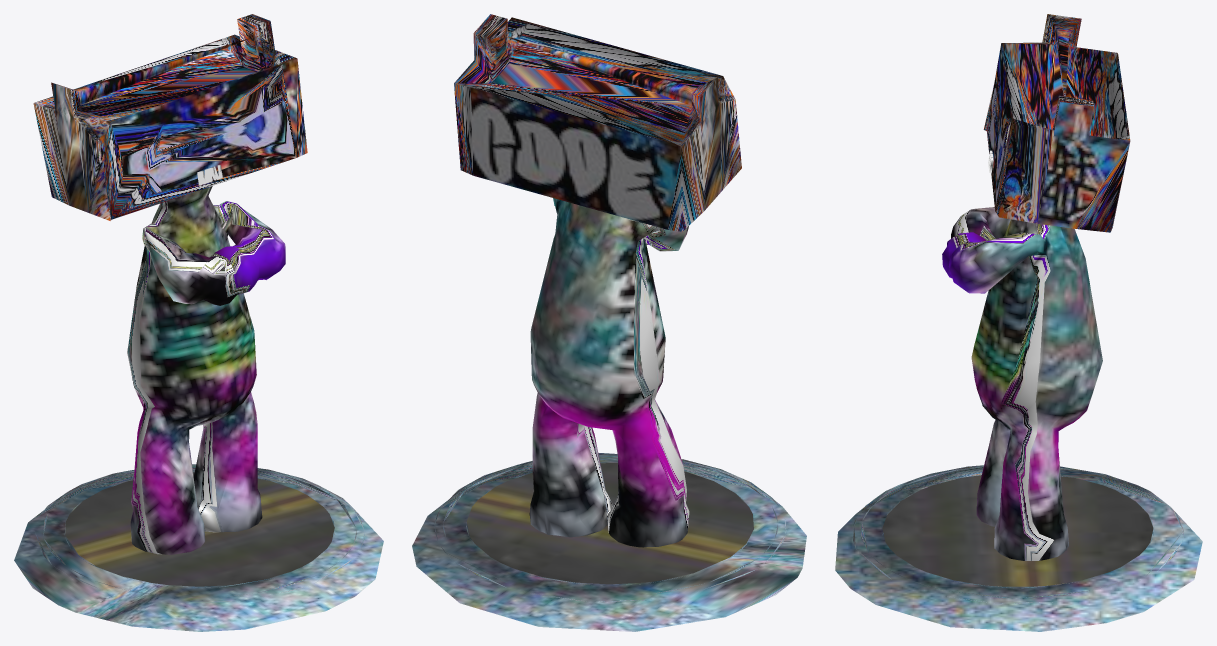
3 views of the same model, side by side, from view 1: azimuth 30°, elevation 25°; view 2: azimuth 150°, elevation 25°; view 3: azimuth 270°, elevation 25° (orthographic). The views are drawn at different scales.
Bounding box in the file's own units: 1.44 × 2.12 × 1.42.
5 materials, 4 textured.
